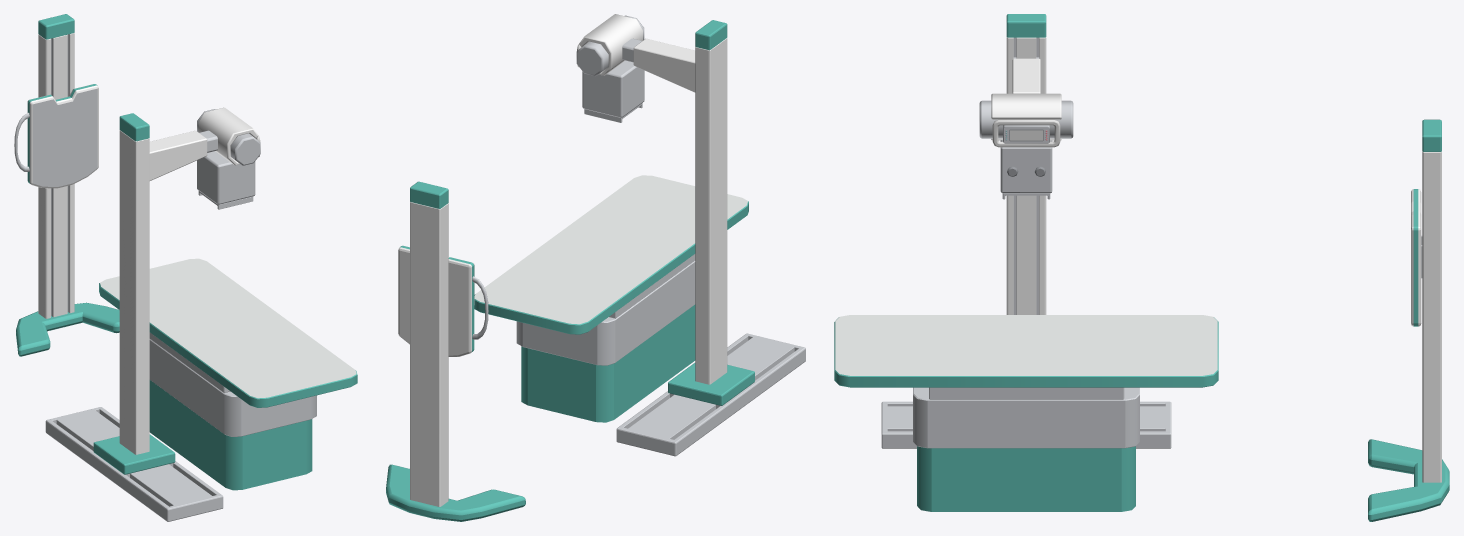
The model's file is X_RAY.fbx.
3 renders of one model, left to right at view 1: azimuth 30°, elevation 25°; view 2: azimuth 150°, elevation 25°; view 3: azimuth 270°, elevation 25°, orthographic. The views are drawn at different scales.
Parts seen in each view (by area): view 1: X_RAY; view 2: X_RAY; view 3: X_RAY.
Boxes of the visible parts, bbox=[...] form: X_RAY: bbox=[14, 14, 357, 521]; X_RAY: bbox=[386, 14, 805, 521]; X_RAY: bbox=[834, 14, 1449, 521].
Size of the model in its own units: 1.34 by 2.42 by 3.25.
